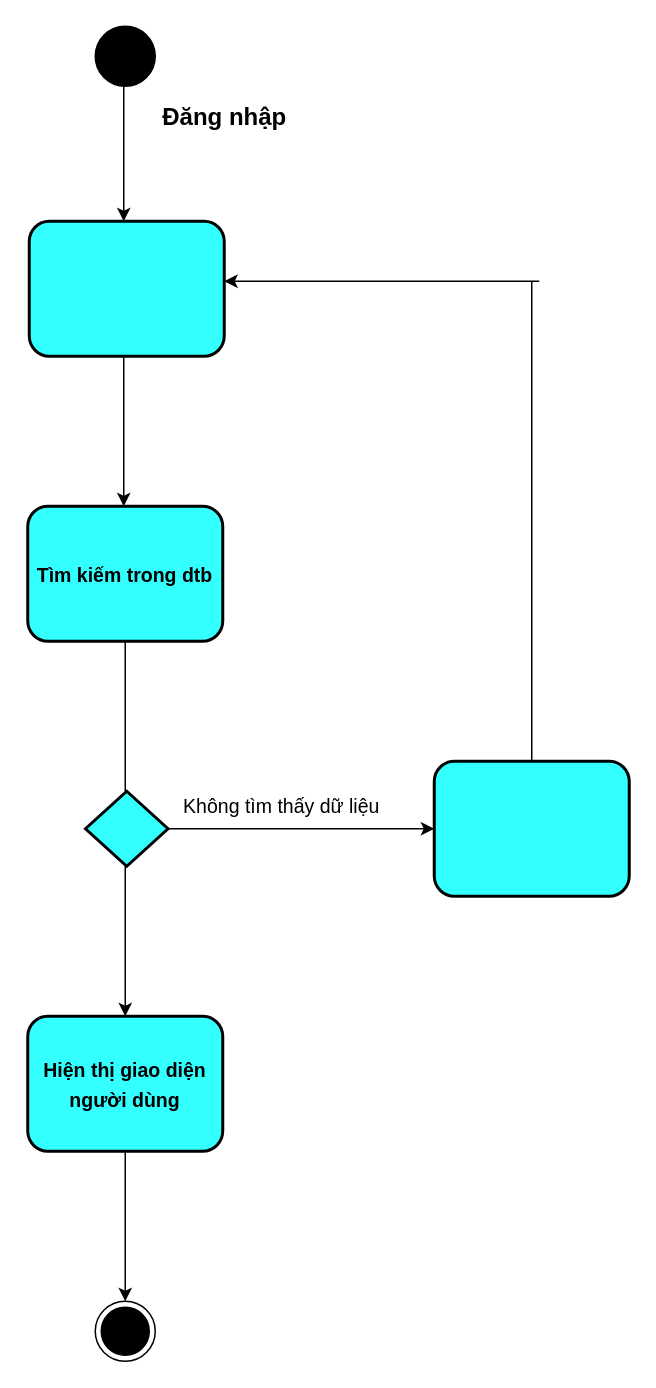
Image size: 656x1388. Some labels were removed from this diagram. The centre of each missing label's shape, as x and y in pixels:
"nhập username, password" belongs at point (126, 288).
"Thông báo đăng nhập thất bại" belongs at point (531, 828).
